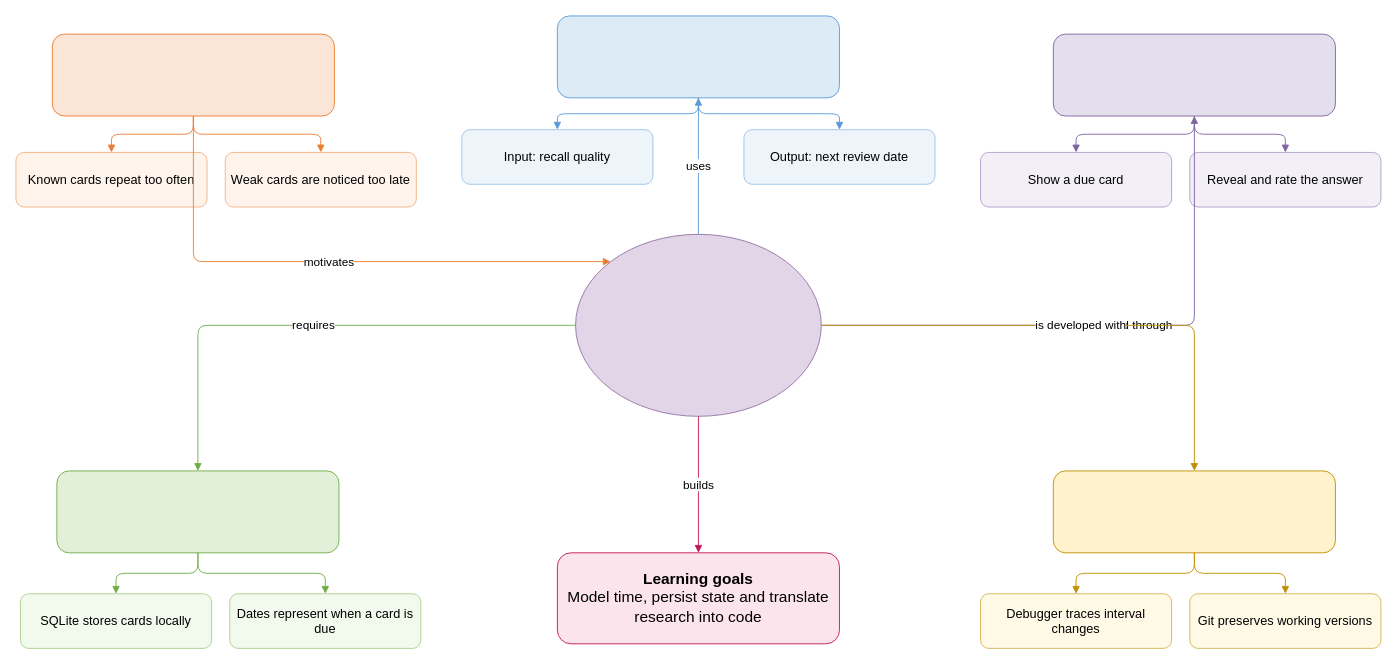
Image size: 1397x664. Some labels were removed from this diagram. Each missing label, with the box of its shape:
Algorithm SM-2 turns a rating into a new interval: (556, 15, 839, 98)
CODE LITERACY through Recall: (575, 233, 821, 416)
Data Cards and review state must persist: (56, 470, 339, 553)
Development practice Tools make behaviour visible and reversible: (1052, 470, 1335, 553)
Problem and purpose Review decisions rely on intuition: (51, 33, 334, 116)
User interface Tkinter connects the learner to the data: (1052, 33, 1335, 116)
